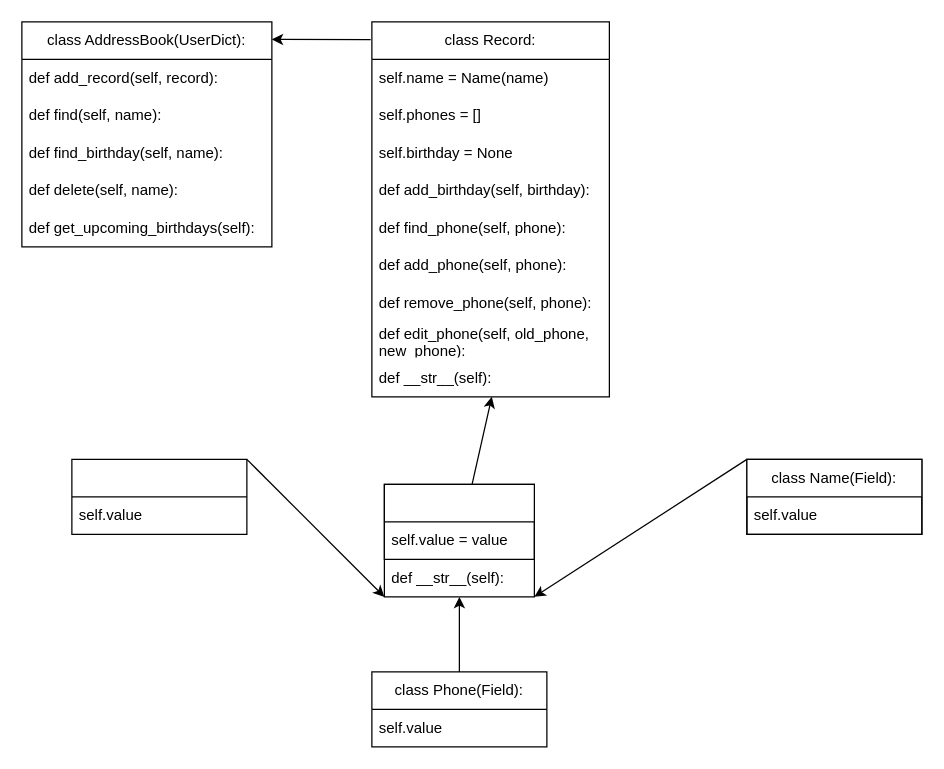
This 944x769 diagram has some shape labels left out. The shapes that lost their labels are listed below. From the top down, each one's box as (x1, y1, x2, y2) in pixels, then its label:
(71, 458, 247, 534): class Birthday(Field):
(383, 483, 534, 559): class Field:
